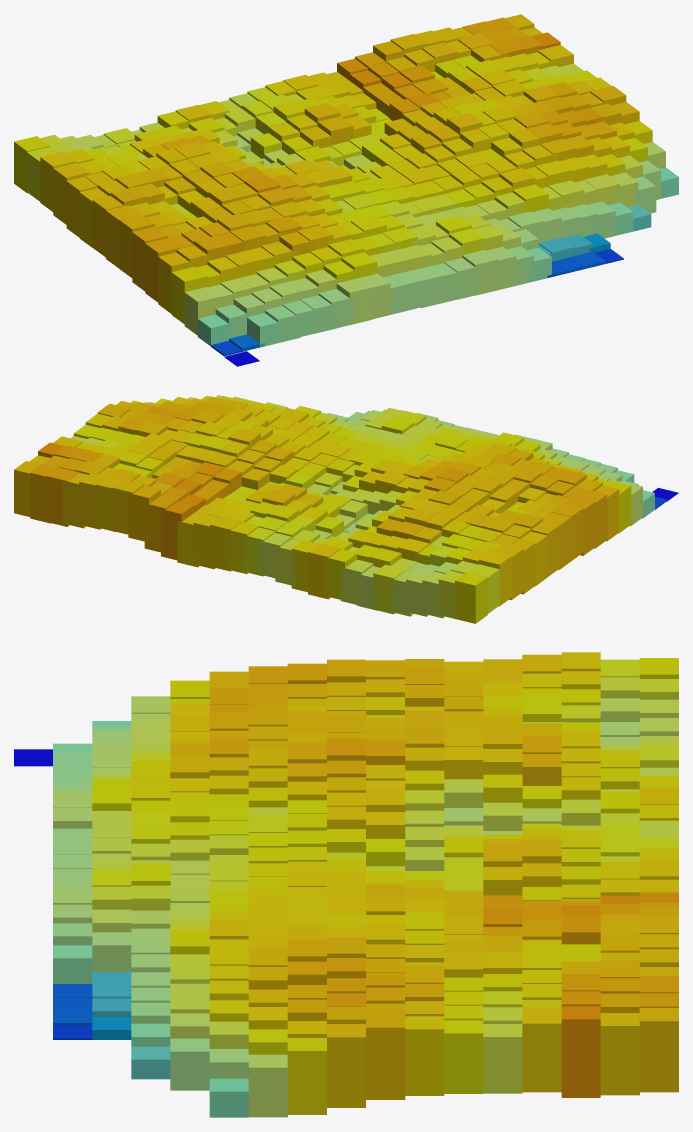
Rendered from population.glb.
3 views of the same model, one above another, from view 1: azimuth 30°, elevation 25°; view 2: azimuth 150°, elevation 25°; view 3: azimuth 270°, elevation 25° (orthographic). The views are drawn at different scales.
Parts seen in each view (by area): view 1: population; view 2: population; view 3: population.
Part boxes in pixels (<box>): population: <box>14,14,678,366</box>; population: <box>14,395,678,623</box>; population: <box>14,652,678,1117</box>.
Bounding box in the file's own units: 2224 × 301 × 1696.
